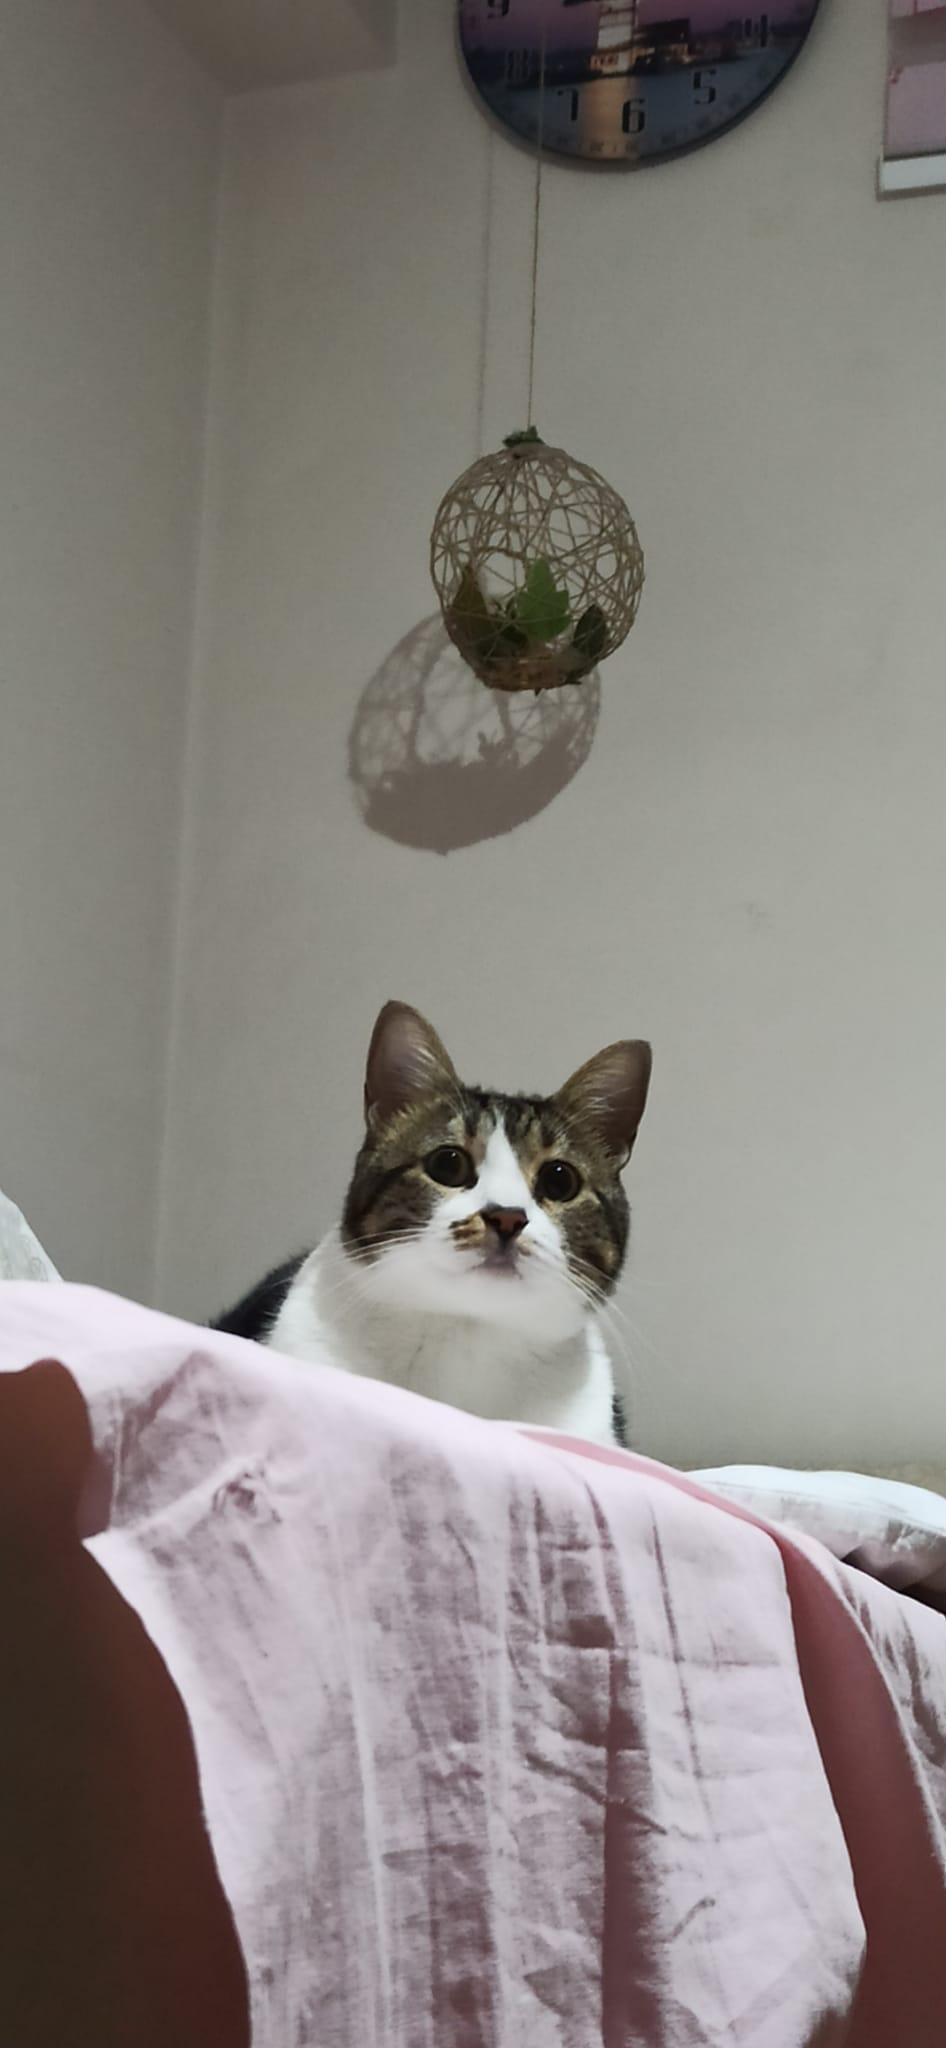kedo: (346, 1006, 652, 1435)
